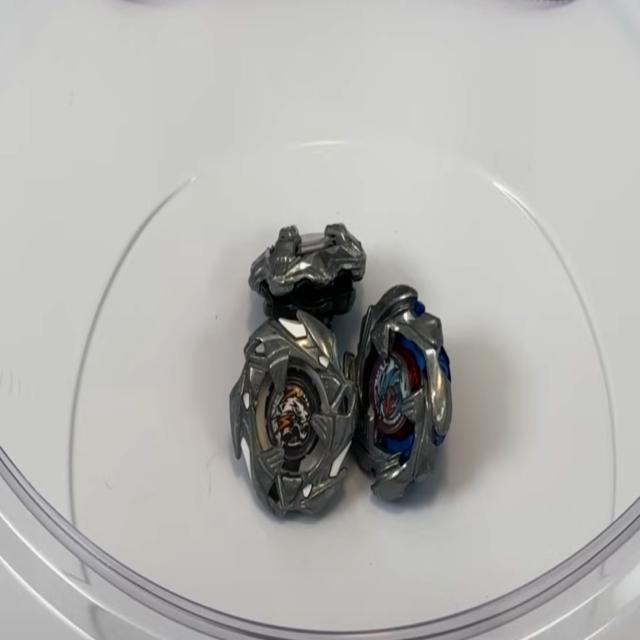Beyblade: (229, 309, 358, 520), (352, 289, 454, 502), (249, 223, 367, 322)
